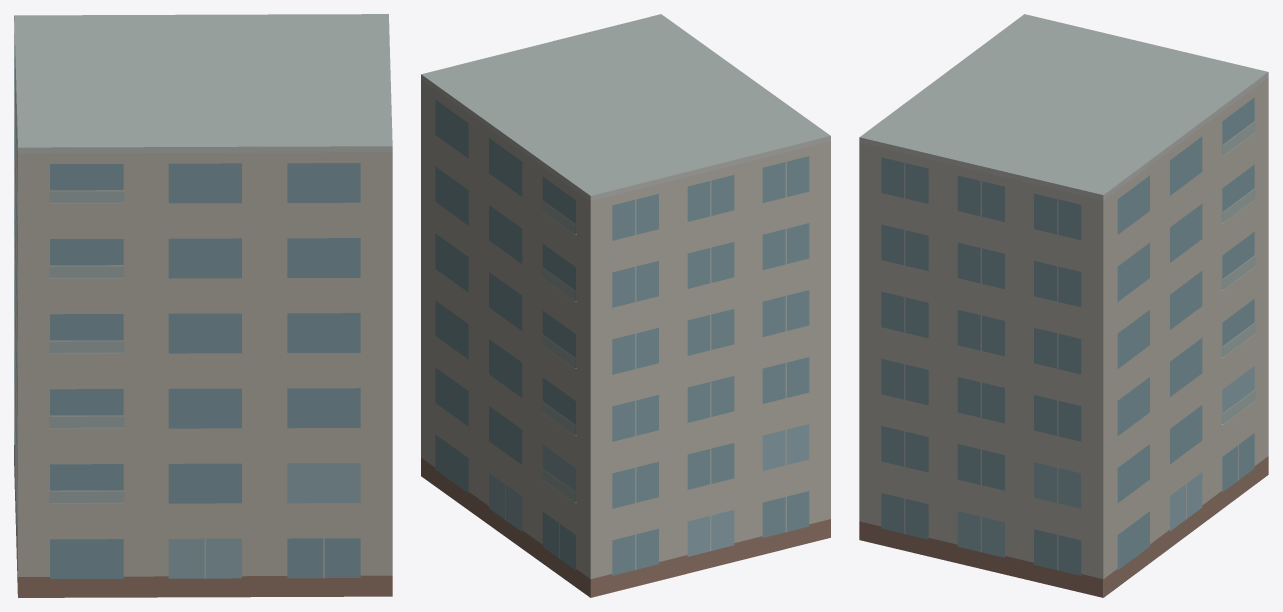
The model's file is survey-upis-32870656.glb.
The picture shows the model from 3 angles, left to right: view 1: azimuth 30°, elevation 25°; view 2: azimuth 150°, elevation 25°; view 3: azimuth 270°, elevation 25°; orthographic projection. The views are drawn at different scales.
Parts seen in each view (by area): view 1: survey-upis-32870656.tmp; view 2: survey-upis-32870656.tmp; view 3: survey-upis-32870656.tmp.
Part boxes in pixels (x1,y1,x2,y2): survey-upis-32870656.tmp: (14, 14, 392, 597); survey-upis-32870656.tmp: (421, 14, 830, 597); survey-upis-32870656.tmp: (859, 14, 1268, 597).
Bounding box in the file's own units: 17.66 × 18.3 × 16.86.
